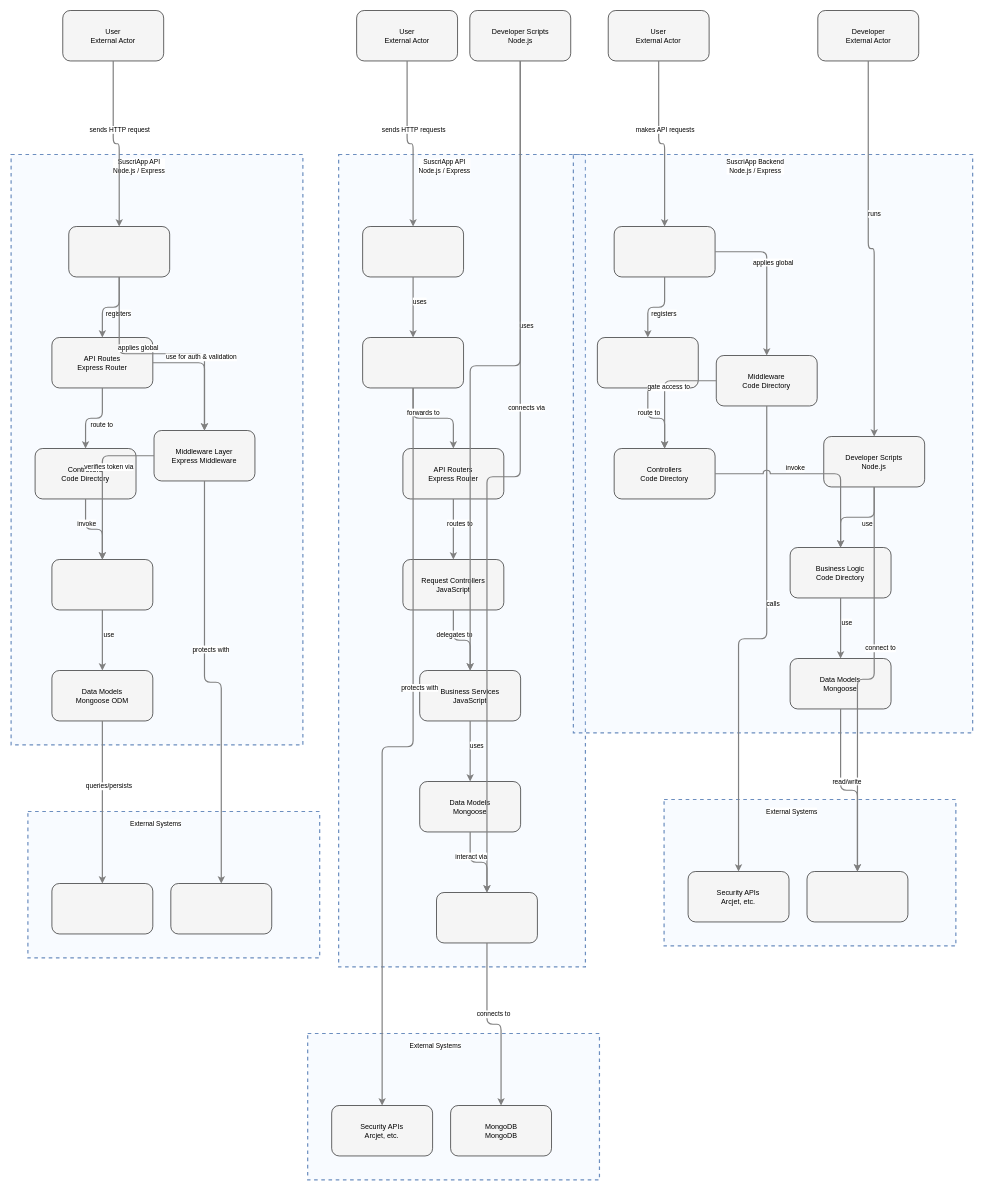
This 983x1191 diagram has some shape labels left out. The centre of each missing label's shape, as x and y in pixels:
"API Entry Point Express.js" goes at (x=664, y=251).
"API Routes Code Directory" goes at (x=647, y=362).
"API Server Node.js / Express" goes at (x=413, y=251).
"app.js Express Entry Point" goes at (x=119, y=251).
"Business Logic Services Code Directory" goes at (x=102, y=584).
"Database APIs MongoDB" goes at (x=102, y=908).
"Database Connector Mongoose" goes at (x=486, y=917).
"Database MongoDB" goes at (x=857, y=896).
"Middleware Pipeline Express Middleware" goes at (x=413, y=362).
"Security APIs Arcjet" goes at (x=221, y=908).
